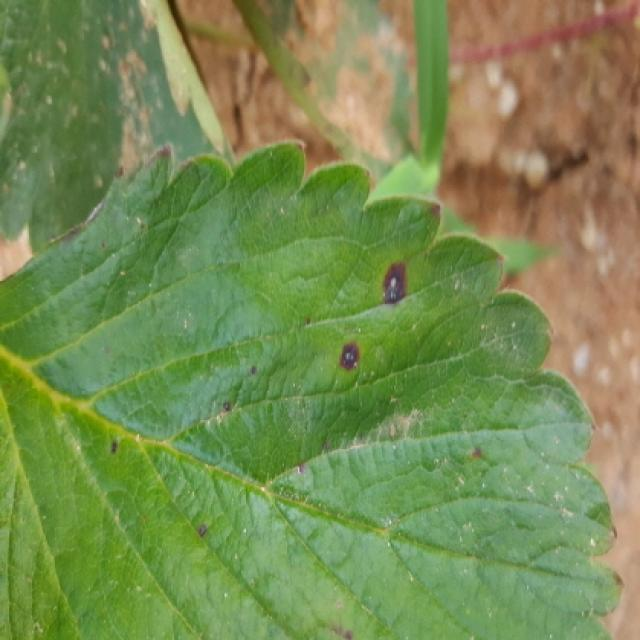Leaf Spot: (0, 139, 629, 638)
